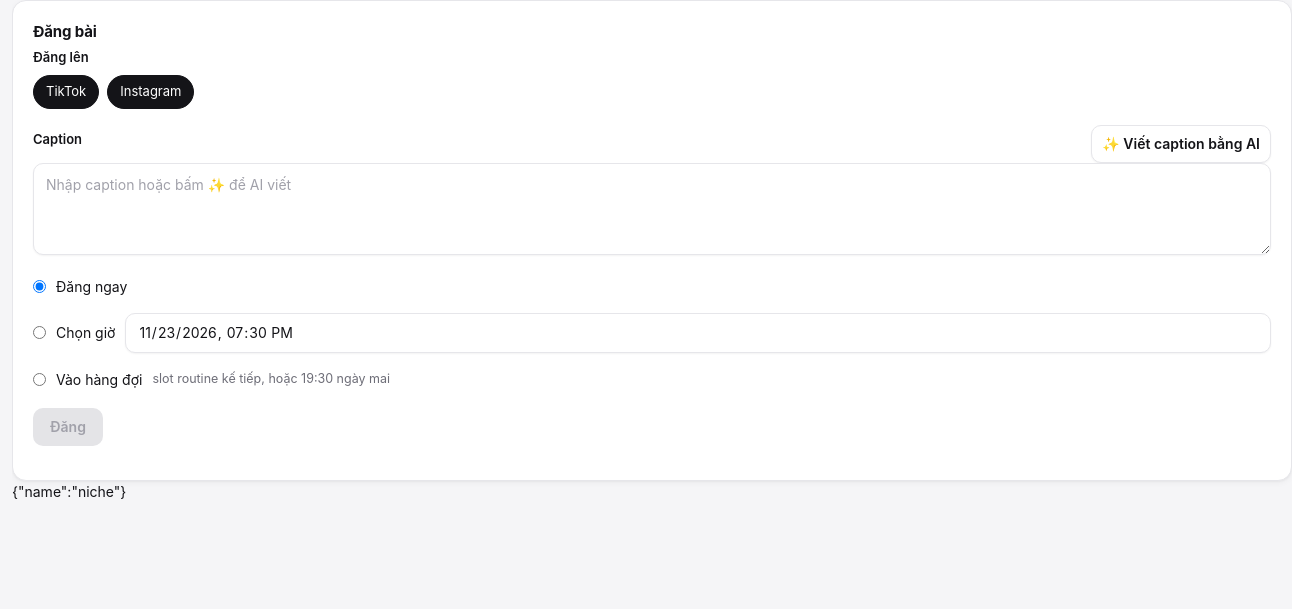
Test: bad input from publish shows 'Chưa đăng được' with the engine message
Click the button "✨ Viết caption bằng AI".
click(1181, 144)  # box [1091,124,1271,162]
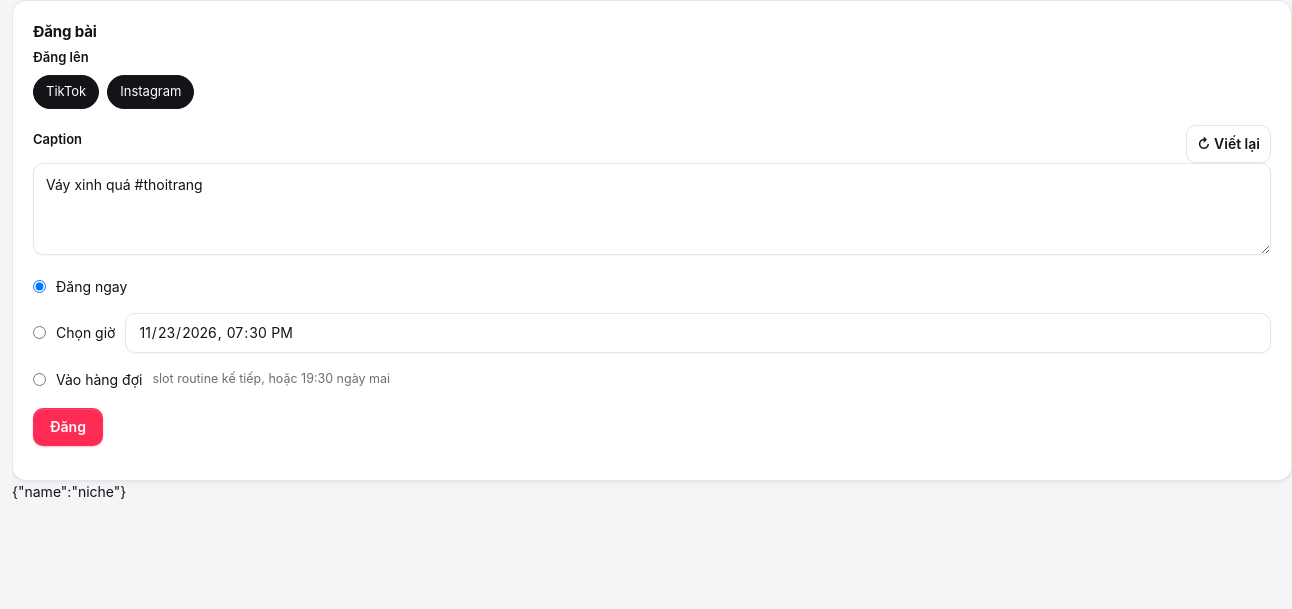
Check: the text box showing "Váy xinh quá #thoitrang" is shown, box [33,162,1271,254]
Click the button "Đăng".
click(68, 426)  # box [33,408,103,446]
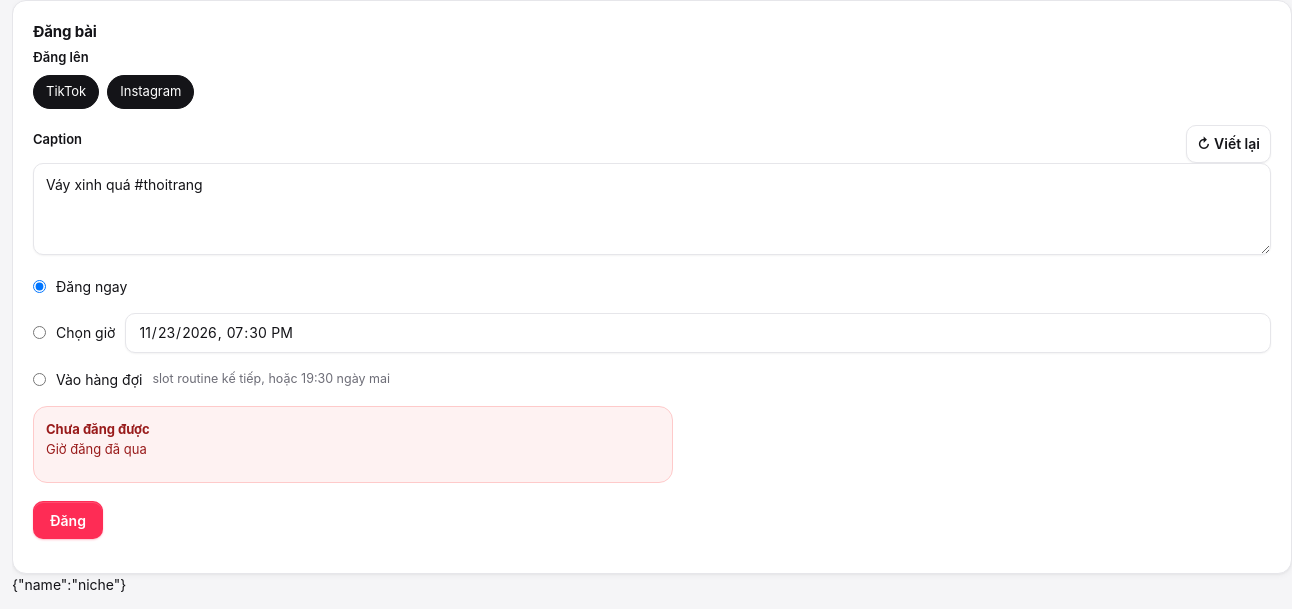
Check: the text "Chưa đăng được" is shown, box [46,420,150,436]
Check: the text "Giờ đăng đã qua" is shown, box [46,441,147,457]
